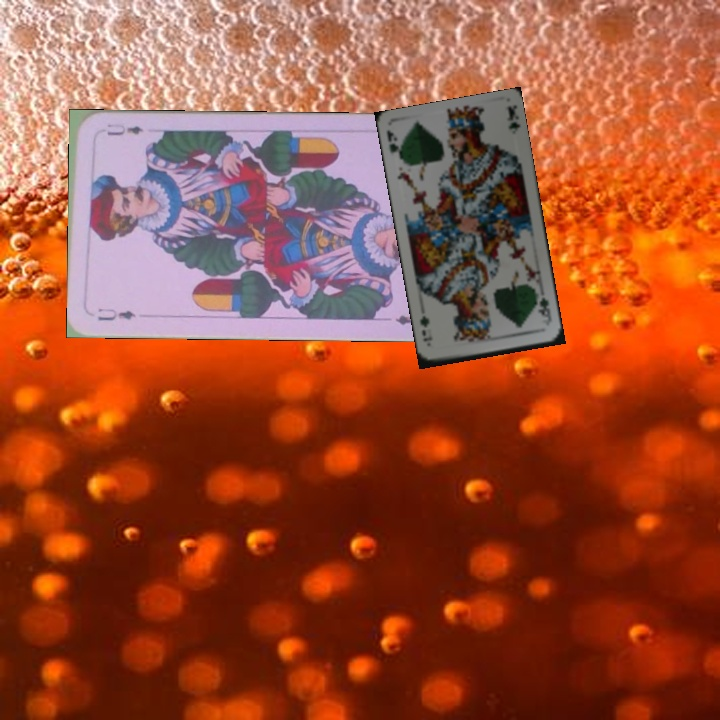EU: (93, 304, 138, 324)
GK: (382, 126, 406, 164), (535, 293, 554, 326)
